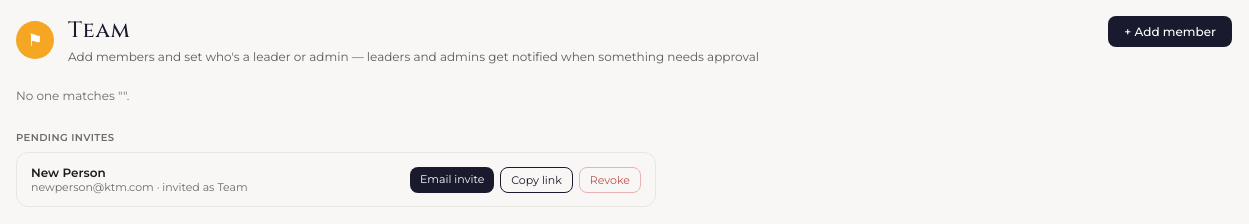
Test: revoking an invite removes it from the pending list
Expected: the text "New Person" is shown, [31,165,106,180]
Click the button "Revoke" at (610, 180), box [579,166,641,192]
Wait 6000 ms
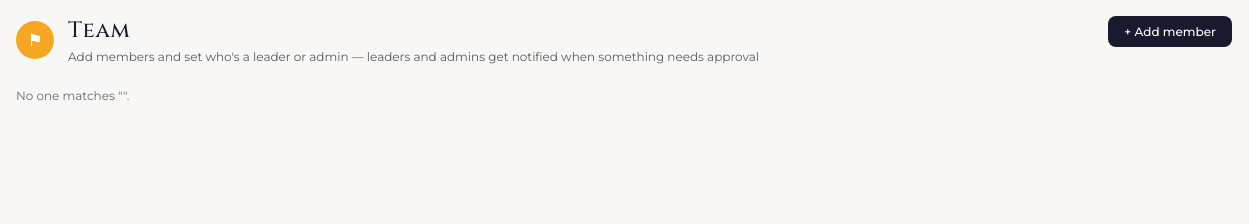
Expected: the text "New Person" is gone
